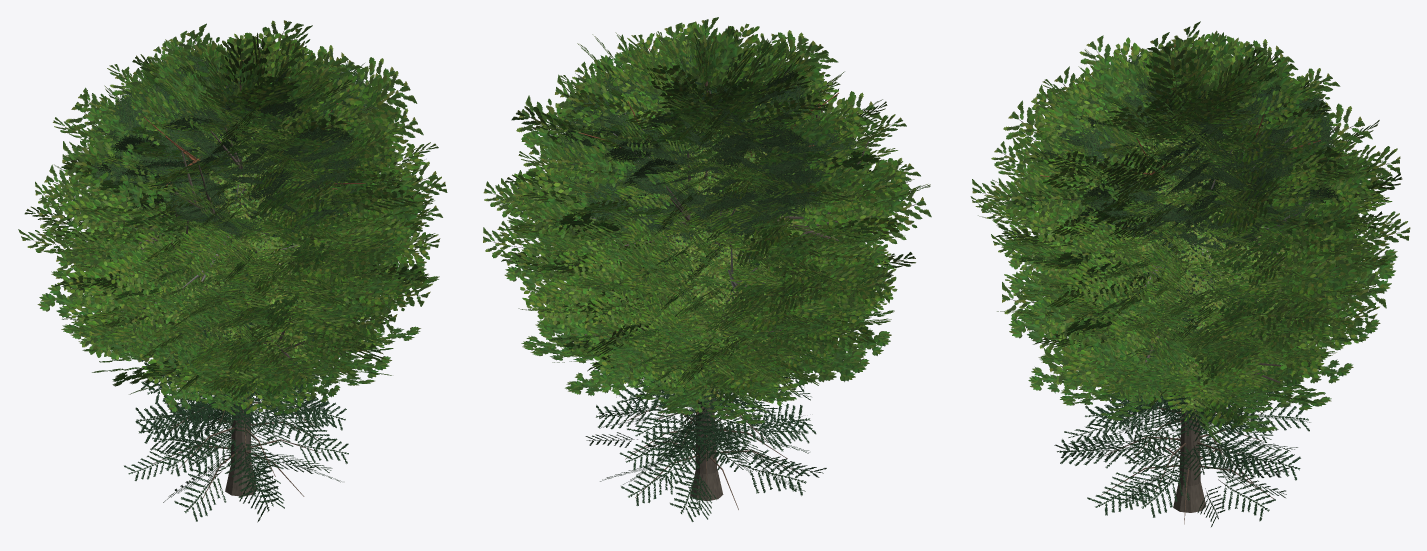
File: VB_bomen.fbx
3 views of the same model, side by side, from view 1: azimuth 30°, elevation 25°; view 2: azimuth 150°, elevation 25°; view 3: azimuth 270°, elevation 25° (orthographic). The views are drawn at different scales.
Parts seen in each view (by area): view 1: VB_eik_kroon, VB_beuk_kroon, VB_kastanje_kroon, VB_den_kroon, VB_spar_kroon, VB_berk_kroon, VB_eik_stam, VB_spar_stam; view 2: VB_eik_kroon, VB_beuk_kroon, VB_kastanje_kroon, VB_den_kroon, VB_spar_kroon, VB_berk_kroon, VB_eik_stam, VB_spar_stam; view 3: VB_eik_kroon, VB_beuk_kroon, VB_kastanje_kroon, VB_den_kroon, VB_spar_kroon, VB_berk_kroon, VB_eik_stam, VB_spar_stam.
Part boxes in pixels (<box>): VB_eik_kroon: <box>18,20,447,396</box>; VB_beuk_kroon: <box>42,30,435,414</box>; VB_kastanje_kroon: <box>37,39,439,415</box>; VB_den_kroon: <box>91,48,395,244</box>; VB_spar_kroon: <box>124,77,348,522</box>; VB_berk_kroon: <box>132,44,339,382</box>; VB_eik_stam: <box>143,86,257,496</box>; VB_spar_stam: <box>153,84,324,503</box>; VB_eik_kroon: <box>483,17,931,402</box>; VB_beuk_kroon: <box>504,22,907,405</box>; VB_kastanje_kroon: <box>501,21,909,424</box>; VB_den_kroon: <box>549,42,854,246</box>; VB_spar_kroon: <box>585,74,826,521</box>; VB_berk_kroon: <box>598,39,806,402</box>; VB_eik_stam: <box>571,90,869,501</box>; VB_spar_stam: <box>625,81,797,509</box>; VB_eik_kroon: <box>970,21,1410,409</box>; VB_beuk_kroon: <box>999,34,1392,428</box>; VB_kastanje_kroon: <box>996,30,1397,444</box>; VB_den_kroon: <box>1035,50,1340,255</box>; VB_spar_kroon: <box>1054,82,1310,526</box>; VB_berk_kroon: <box>1098,68,1288,412</box>; VB_eik_stam: <box>1173,126,1338,512</box>; VB_spar_stam: <box>1101,284,1273,524</box>.
Bounding box in the file's own units: 15.38 × 17.3 × 14.69.
